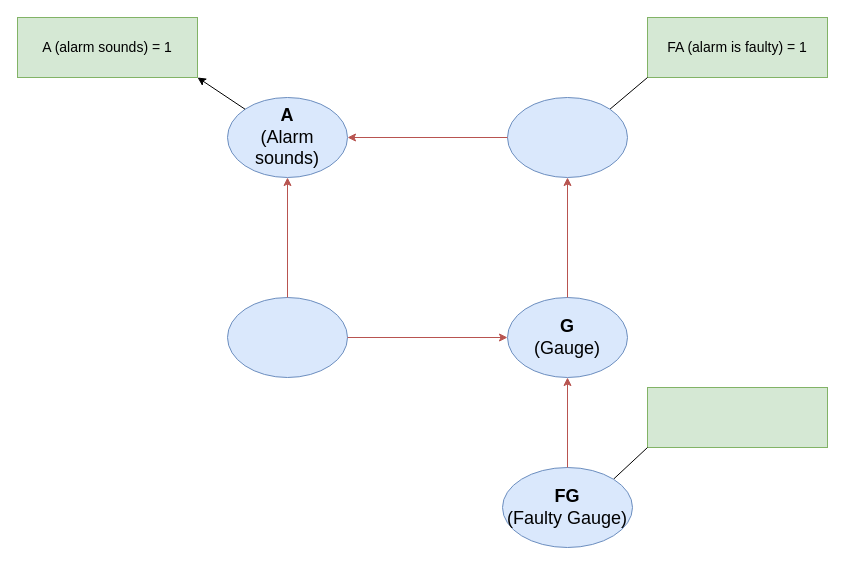
This 845x565 diagram has some shape labels left out. The centre of each missing label's shape, as x and y in pixels:
FA (Faulty Alarm): point 567,137
FG (gauge is faulty) = 1: point 737,417
T (Core Temp): point 287,337
